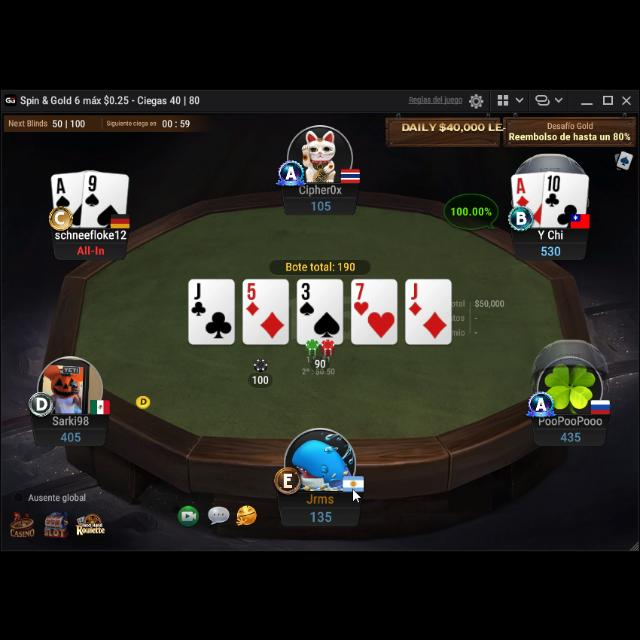3s: (298, 278, 316, 316)
5d: (244, 280, 262, 314)
7h: (352, 280, 370, 314)
9s: (84, 172, 100, 206)
Ad: (516, 175, 530, 207)
As: (53, 175, 71, 209)
Jc: (190, 280, 208, 316)
Jd: (407, 279, 423, 315)
Tc: (544, 172, 562, 206)
all_in_symbol: (76, 242, 105, 254)
bet_text: (252, 371, 270, 383), (314, 356, 328, 368)
dealer: (134, 392, 152, 408)
pot_text: (285, 258, 357, 270)
stack_text: (308, 507, 334, 521), (59, 427, 83, 441), (310, 198, 332, 212), (540, 241, 562, 255), (559, 431, 581, 443)
